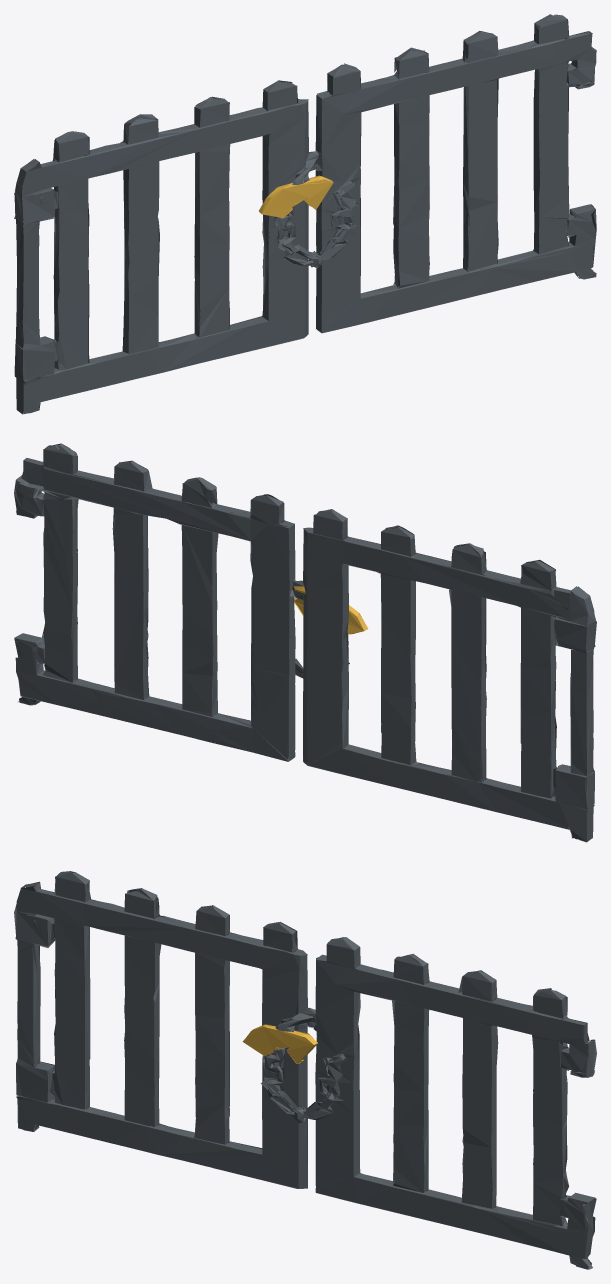
The model's file is PROP_02_game.glb.
3 renders of one model, top to bottom at view 1: azimuth 30°, elevation 25°; view 2: azimuth 150°, elevation 25°; view 3: azimuth 330°, elevation 25°, orthographic.
Parts seen in each view (by area): view 1: GateLeftMesh, GateRightMesh; view 2: GateLeftMesh, GateRightMesh; view 3: GateLeftMesh, GateRightMesh.
Part boxes in pixels (x1,y1,x2,y2): GateLeftMesh: (14,80,333,414); GateRightMesh: (304,14,596,336); GateLeftMesh: (303,509,596,842); GateRightMesh: (14,443,306,761); GateLeftMesh: (14,871,313,1188); GateRightMesh: (285,937,596,1269).
Bounding box in the file's own units: 4.8 × 2.15 × 0.2195.
